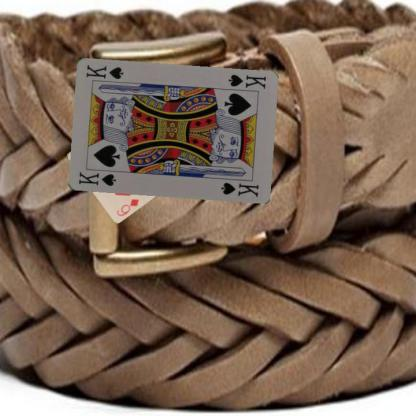6d: (114, 196, 140, 217)
Ks: (76, 169, 117, 188), (225, 72, 267, 90)
